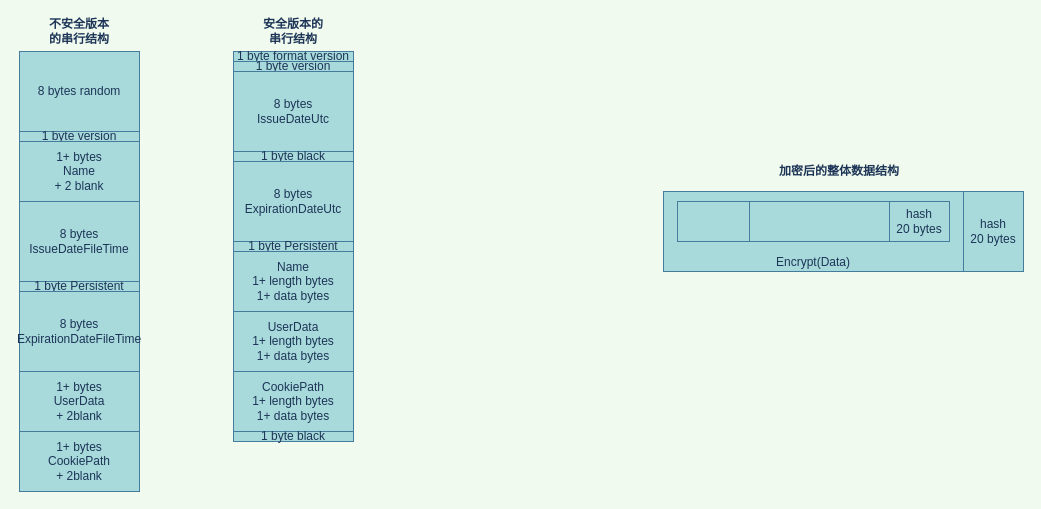
Image size: 1041x509. Some labels were removed from this diagram. The centre of each missing label's shape, as x and y in pixels:
Iv 24 bytes: pixel 713 221
serialize(Ticket): pixel 819 221
